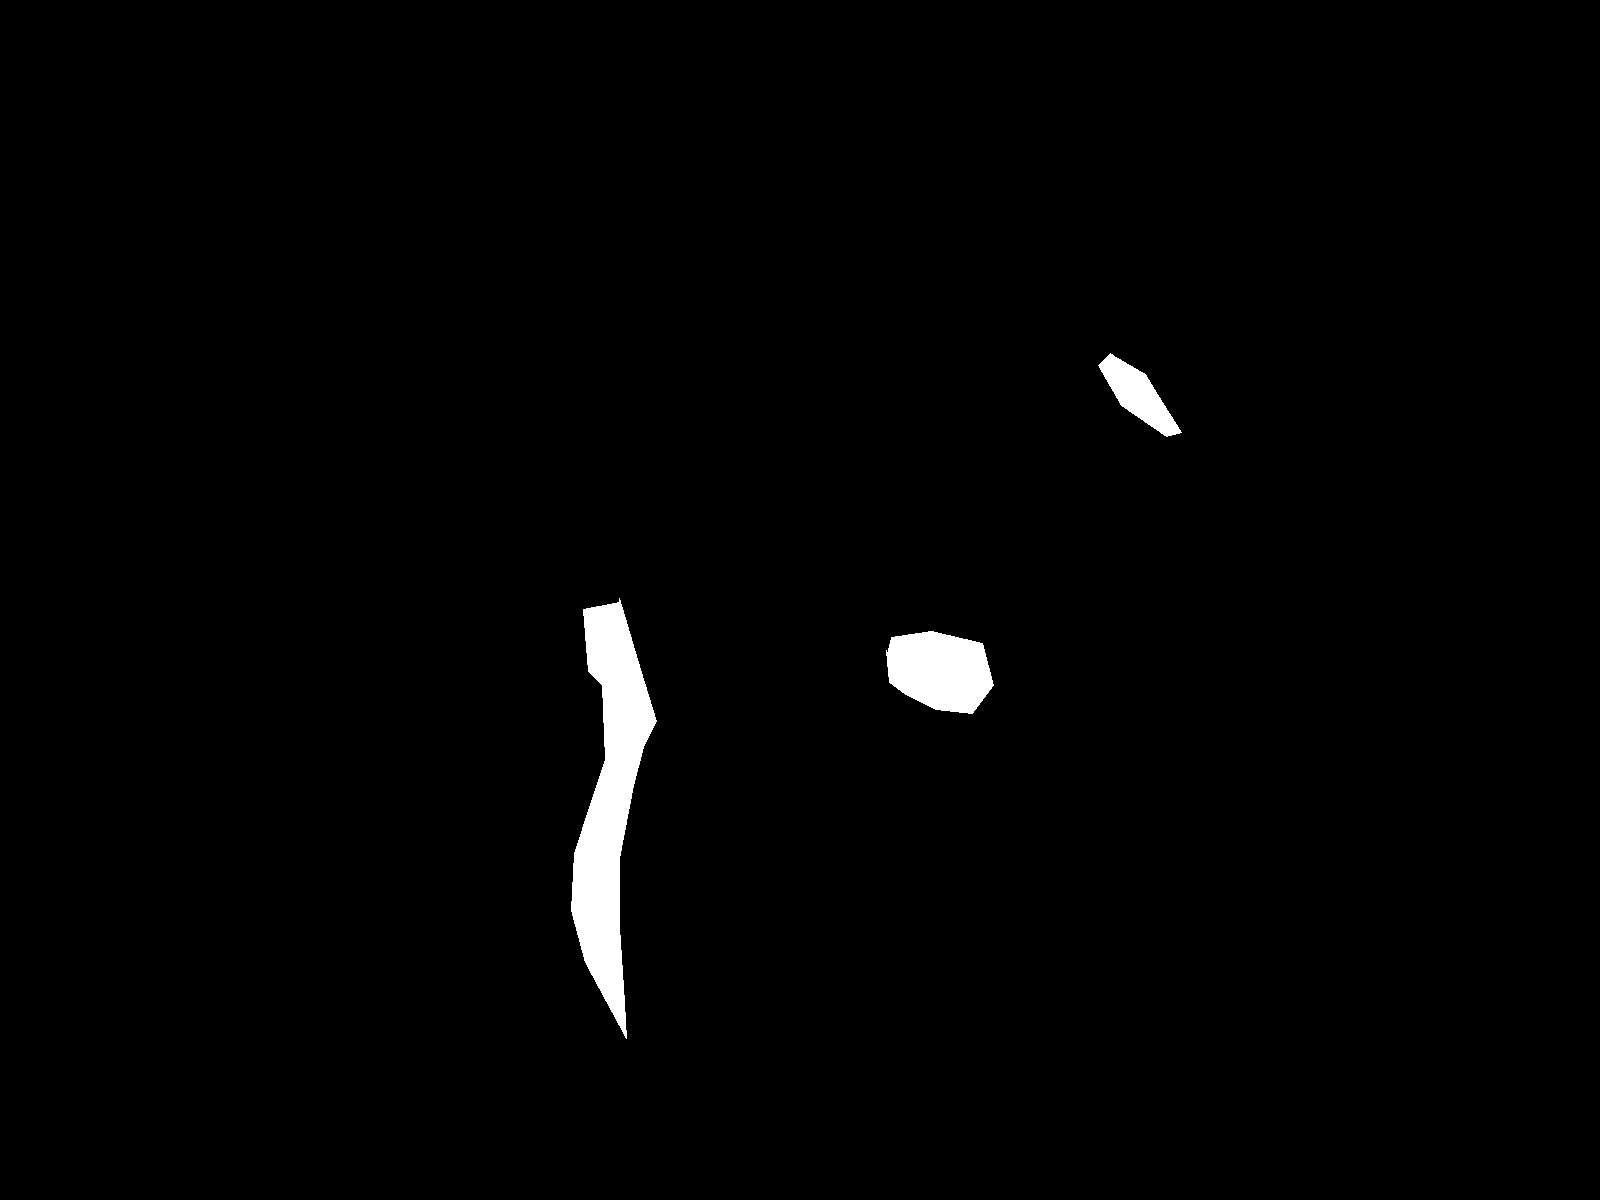Fire: (580, 594, 668, 1035), (884, 634, 1014, 784)
